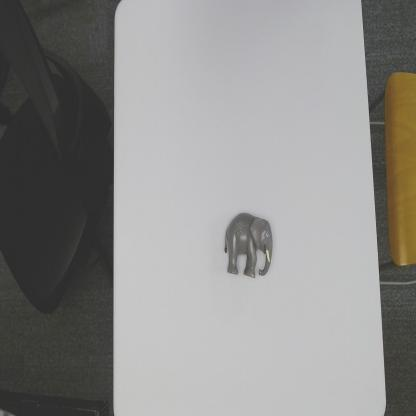Elephant: (223, 210, 274, 277)
